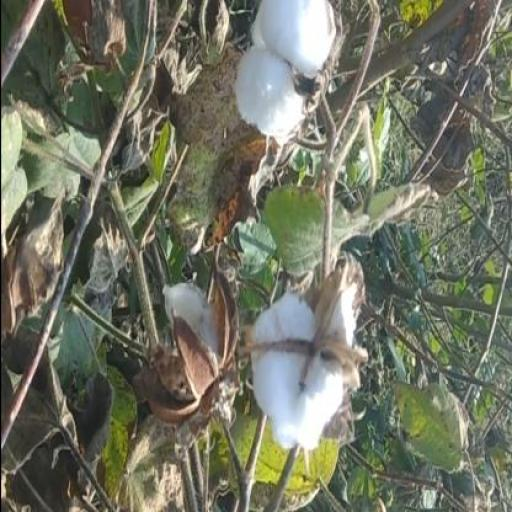cotton_ready: (240, 249, 378, 470)
